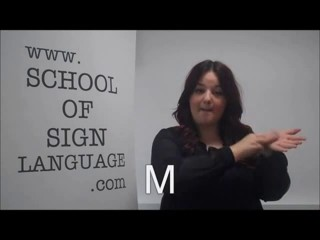M: (231, 122, 312, 155)
